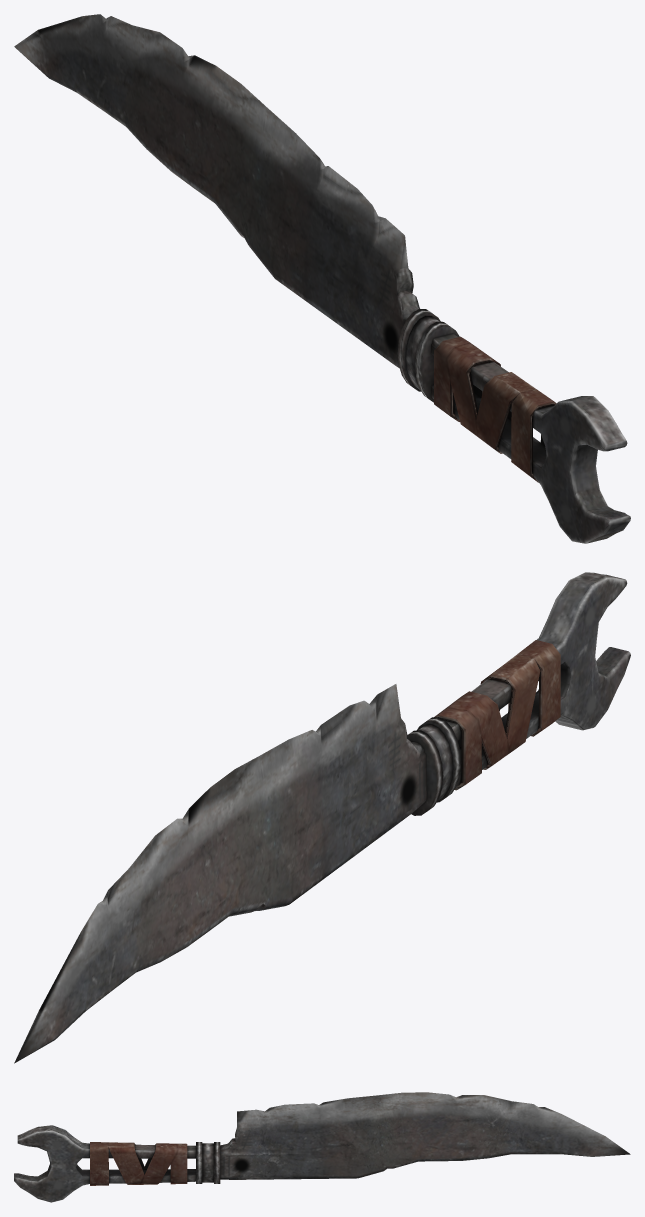
File: wpn_knife.glb
3 views of the same model, one above another, from view 1: azimuth 30°, elevation 25°; view 2: azimuth 150°, elevation 25°; view 3: azimuth 270°, elevation 25° (orthographic). The views are drawn at different scales.
Parts seen in each view (by area): view 1: wpn_knife_mesh; view 2: wpn_knife_mesh; view 3: wpn_knife_mesh.
Part boxes in pixels (box(x1,y1,x2,y2)): wpn_knife_mesh: box(14, 14, 630, 543); wpn_knife_mesh: box(14, 572, 630, 1063); wpn_knife_mesh: box(14, 1092, 630, 1202).
Size of the model in its own units: 0.0147 by 0.0668 by 0.35.
Materials: 1 (1 with a texture image).
